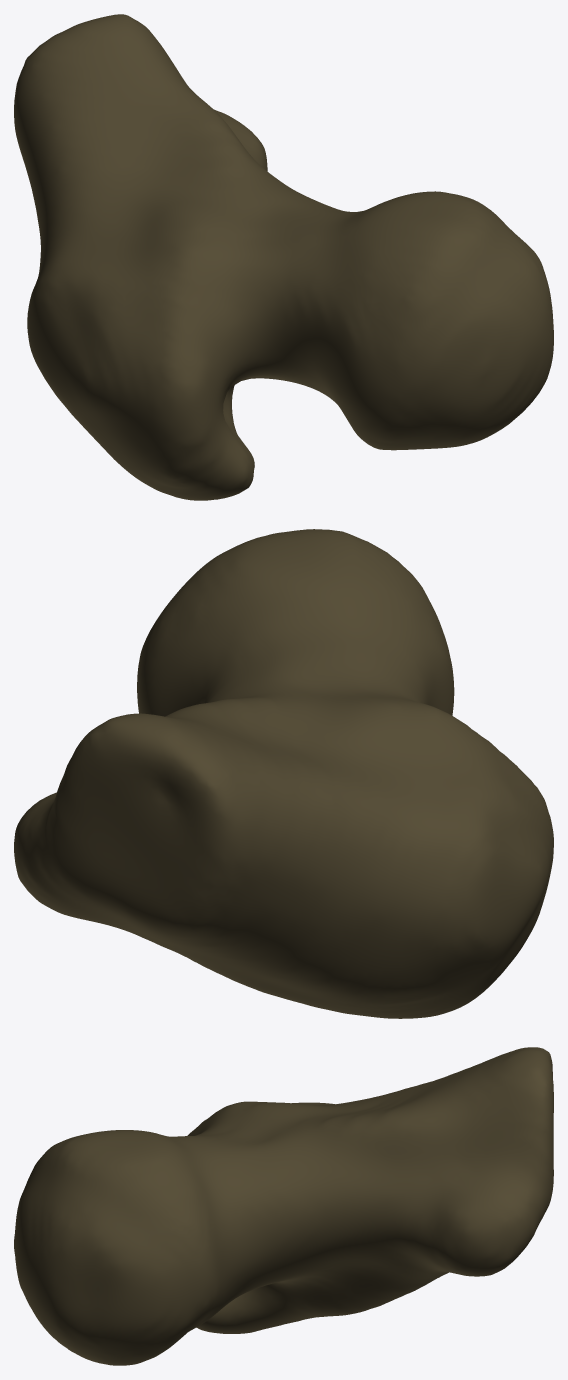
File: segmentations_femur_left.obj
3 renders of one model, top to bottom at view 1: azimuth 30°, elevation 25°; view 2: azimuth 150°, elevation 25°; view 3: azimuth 270°, elevation 25°, orthographic. The views are drawn at different scales.
Parts seen in each view (by area): view 1: grp1; view 2: grp1; view 3: grp1.
Part boxes in pixels (x1=…): grp1: x1=14, y1=14, x2=553, y2=500; grp1: x1=14, y1=529, x2=553, y2=1018; grp1: x1=14, y1=1047, x2=553, y2=1365.
Bounding box in the file's own units: 52.32 × 43.13 × 69.57.
